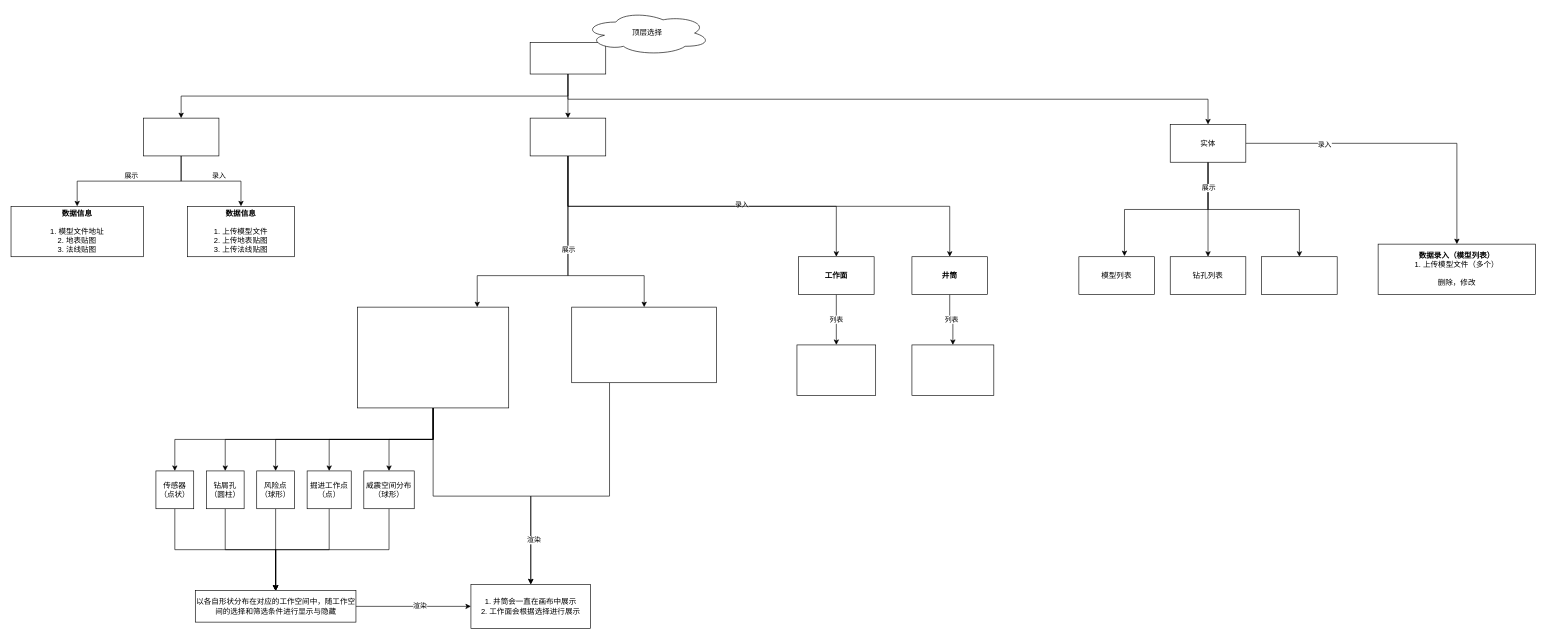
The diagram is 1547 pixels wide and 639 high, and some of its shapes have lost their labels. The centre of each missing label's shape, as x and y in pixels:
"1. 模型 2. 贴图" belongs at pixel 952 369.
"1. 模型 2. 贴图 3. 名称 4. 其他信息" belongs at pixel 836 369.
"井筒列表 （井筒在骨架模式中是否只做展示？） 1. 井筒模型文件 2. 井筒贴图文件" belongs at pixel 644 344.
"工作面列表 每个骨架有多个工作面 工作面信息 1. 模型obj地址 2. 模型贴图地址 3. 其他工作面信息 工作面与传感器等数据相关连，是他们的父级" belongs at pixel 433 357.
"矿山" belongs at pixel 568 58.
"虚拟钻孔" belongs at pixel 1299 275.
"首页" belongs at pixel 181 136.
"骨架" belongs at pixel 568 136.
